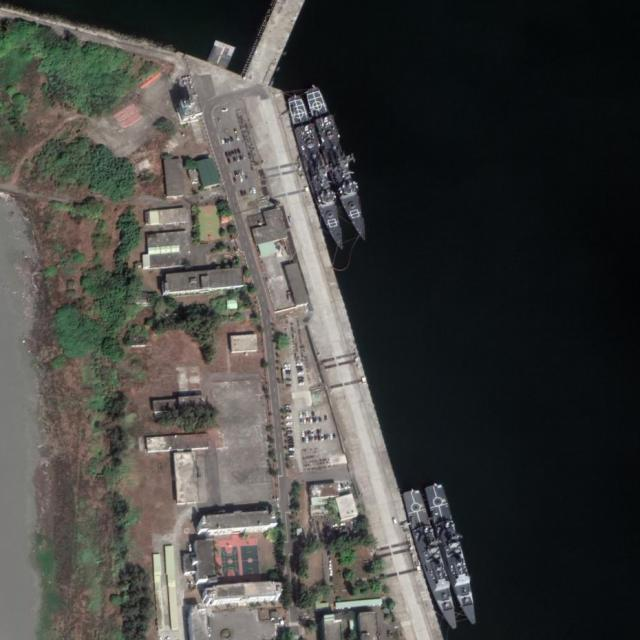Frigate: (303, 85, 372, 244), (285, 94, 347, 251), (423, 481, 484, 628), (401, 486, 462, 632)
